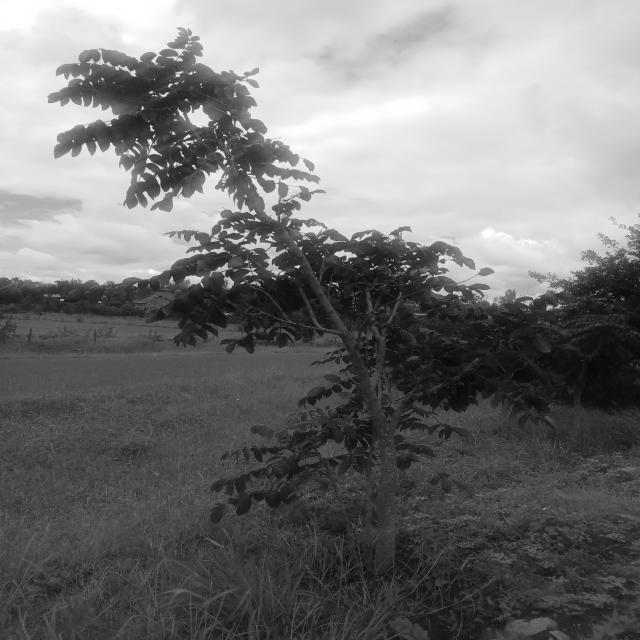Polyscias Kikuyensis: (28, 17, 530, 624)
